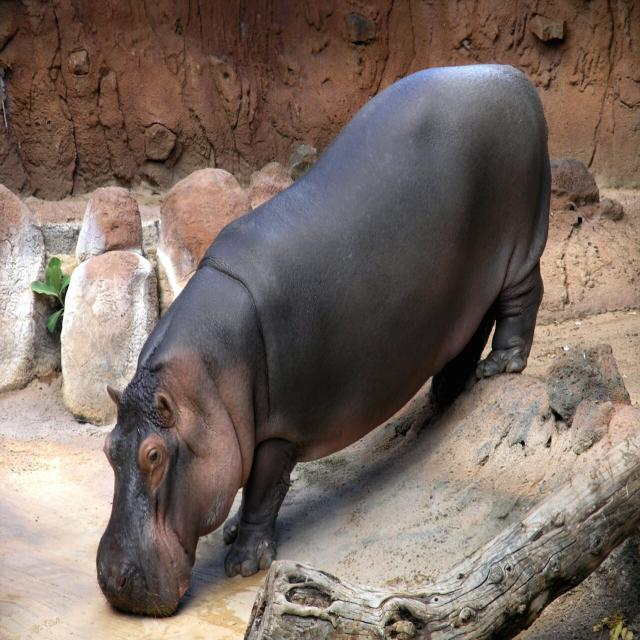Hippopotamus: (96, 64, 550, 612)
